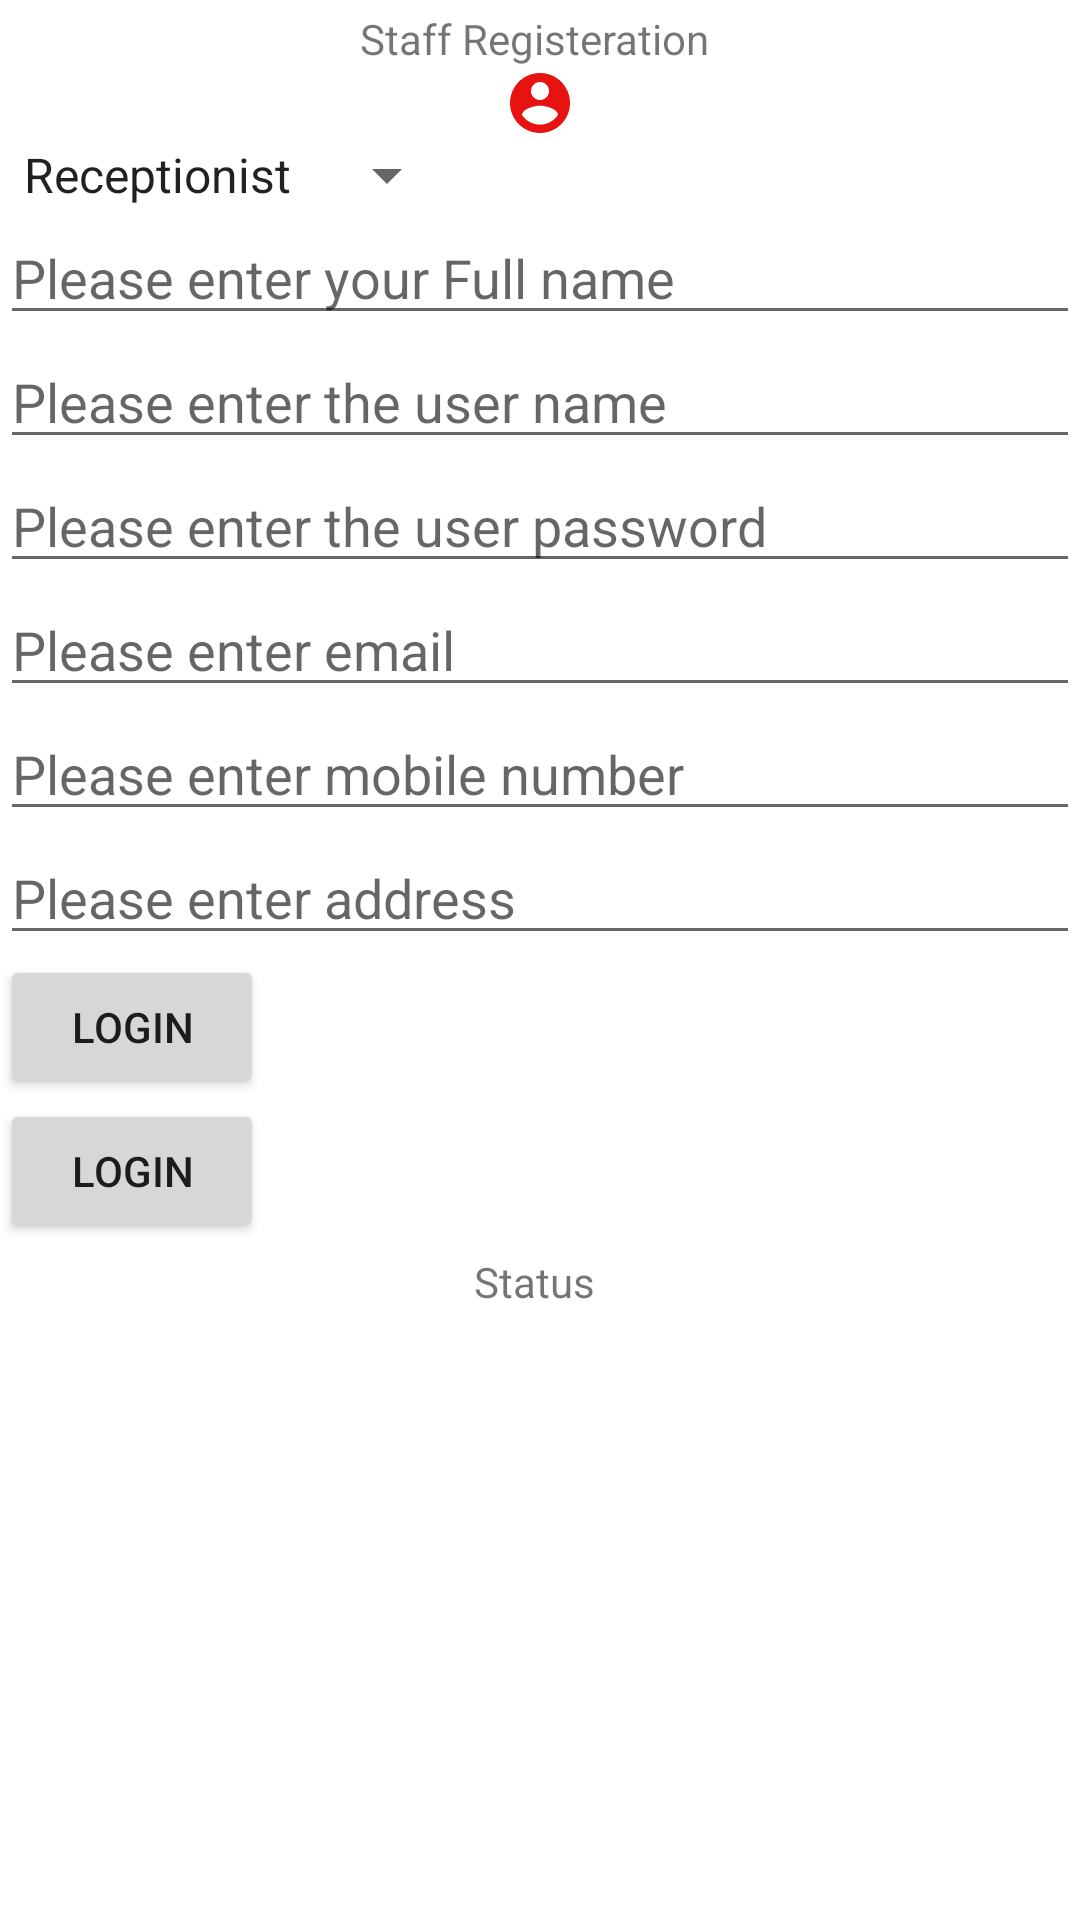

Screen size 1080w x 1920h. Icon name, then its box in pixels as BBox(x1, y1, x2, y2):
customer: BBox(510, 73, 570, 133)
